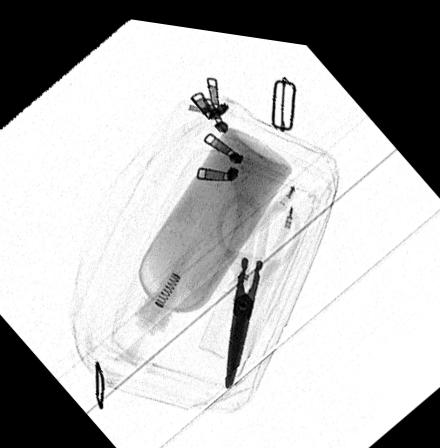Scissors: (215, 187, 303, 382)
